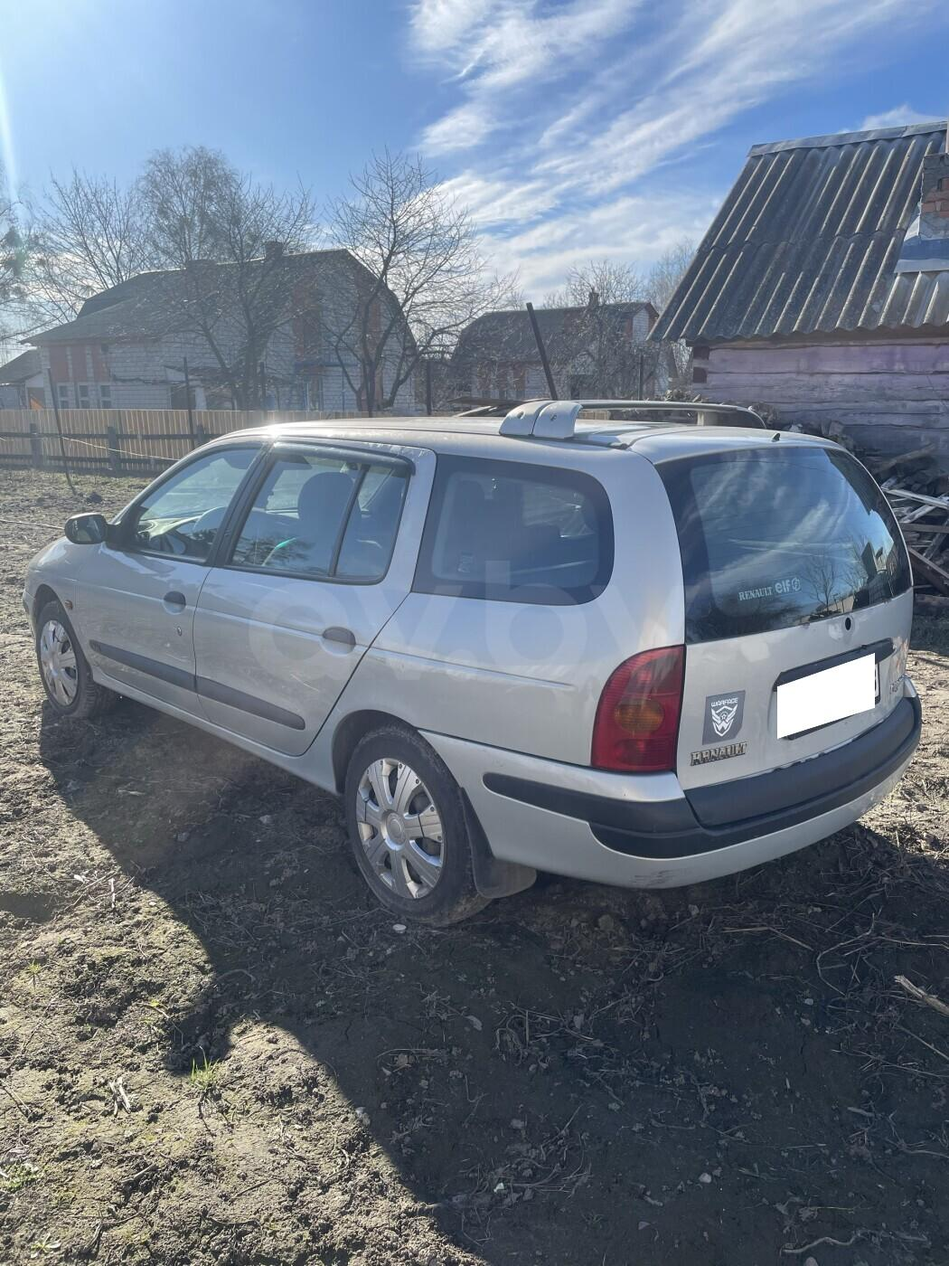Megane_1999-2003: (16, 398, 924, 940)
